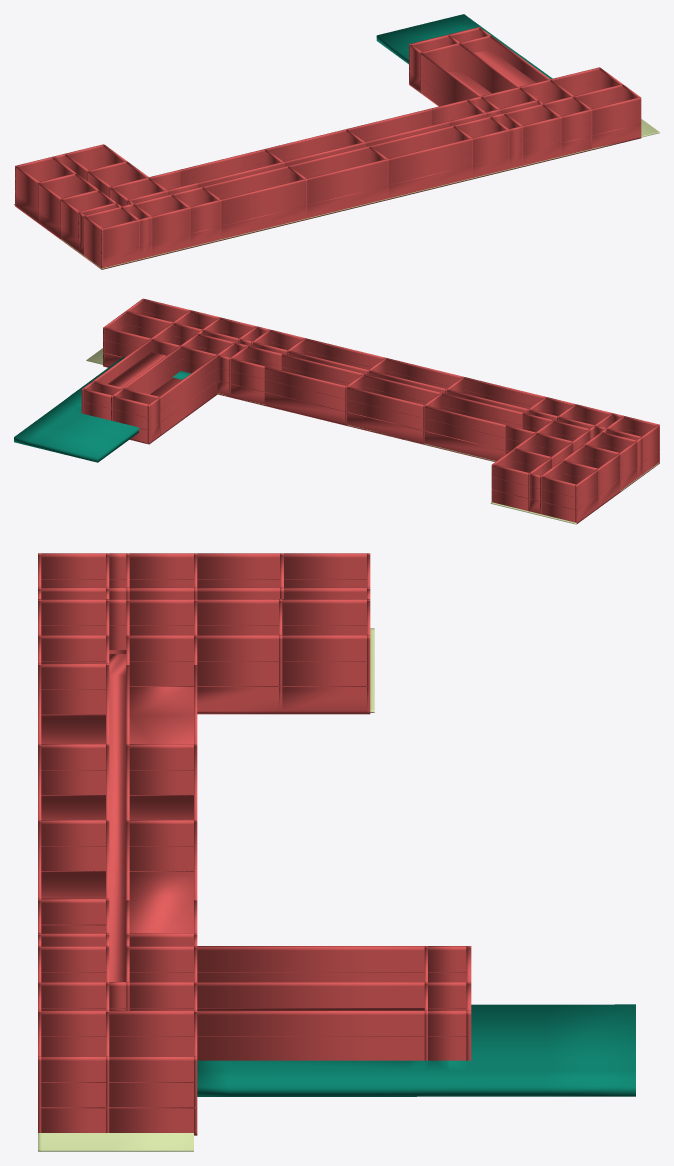
The picture shows the model from 3 angles, top to bottom: view 1: azimuth 30°, elevation 25°; view 2: azimuth 150°, elevation 25°; view 3: azimuth 270°, elevation 25°; orthographic projection. The views are drawn at different scales.
Parts seen in each view (by area): view 1: Floor_3, Floor_2, Floor_1, StraightStair002, main; view 2: Floor_3, Floor_2, Floor_1, StraightStair002, main; view 3: Floor_3, Floor_2, Floor_1, StraightStair002, main.
Part boxes in pixels (x1,y1,x2,y2): Floor_3: (15,27,641,241); Floor_2: (15,49,641,254); Floor_1: (15,69,641,269); StraightStair002: (376,14,552,78); main: (14,90,659,268); Floor_3: (81,298,659,497); Floor_2: (81,311,659,509); Floor_1: (103,352,659,524); StraightStair002: (14,357,190,462); main: (86,348,659,524); Floor_3: (38,553,471,1082); Floor_2: (38,579,471,1107); Floor_1: (38,650,370,1135); StraightStair002: (197,1004,635,1096); main: (38,628,374,1151).
Bounding box in the file's own units: 3641 × 253 × 1763.
